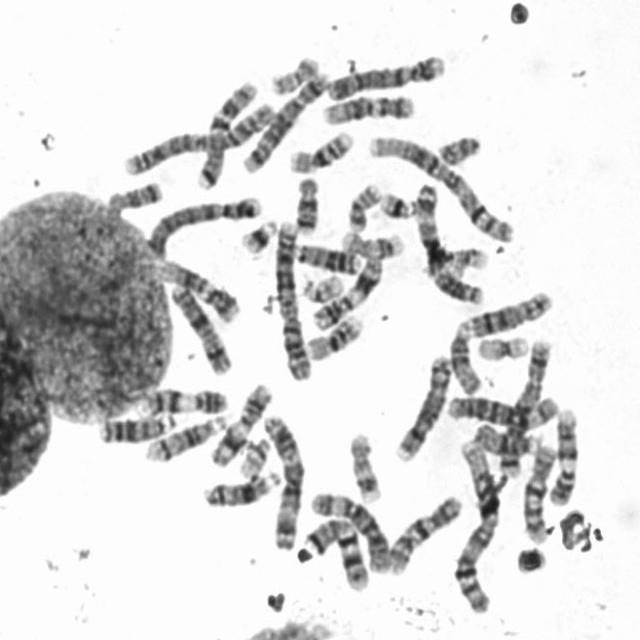A1: (362, 129, 518, 245), (449, 434, 502, 616)
A2: (118, 96, 278, 178), (270, 214, 314, 382)
A3: (410, 175, 487, 308), (260, 409, 307, 552)
B4: (140, 189, 265, 262), (323, 49, 448, 102)
B5: (239, 68, 330, 174), (498, 336, 556, 478)
C10: (384, 488, 464, 576), (518, 438, 559, 546)
C11: (308, 250, 387, 332), (206, 378, 274, 469)
C12: (154, 254, 241, 324), (317, 88, 418, 126)
C6: (307, 486, 393, 575), (442, 388, 562, 429)
C7: (192, 74, 261, 191), (299, 510, 373, 593)
C8: (390, 348, 453, 463), (462, 286, 555, 338)
C9: (546, 401, 582, 507), (135, 381, 232, 417)
D13: (93, 406, 178, 446), (288, 237, 362, 275)
D14: (142, 409, 229, 464), (198, 466, 283, 509)
D15: (445, 320, 484, 396), (469, 418, 544, 457)
E16: (284, 124, 356, 174), (303, 308, 365, 362)
E17: (345, 427, 385, 504), (337, 225, 406, 260)
E18: (102, 174, 166, 212), (290, 170, 322, 236)
F19: (473, 330, 532, 362), (444, 242, 491, 276)
F20: (266, 49, 321, 96), (344, 178, 384, 232)
G21: (237, 213, 280, 256), (376, 186, 419, 220)
G22: (235, 432, 273, 480), (298, 269, 346, 305)
X: (167, 279, 234, 377)
Y: (435, 129, 483, 167)
